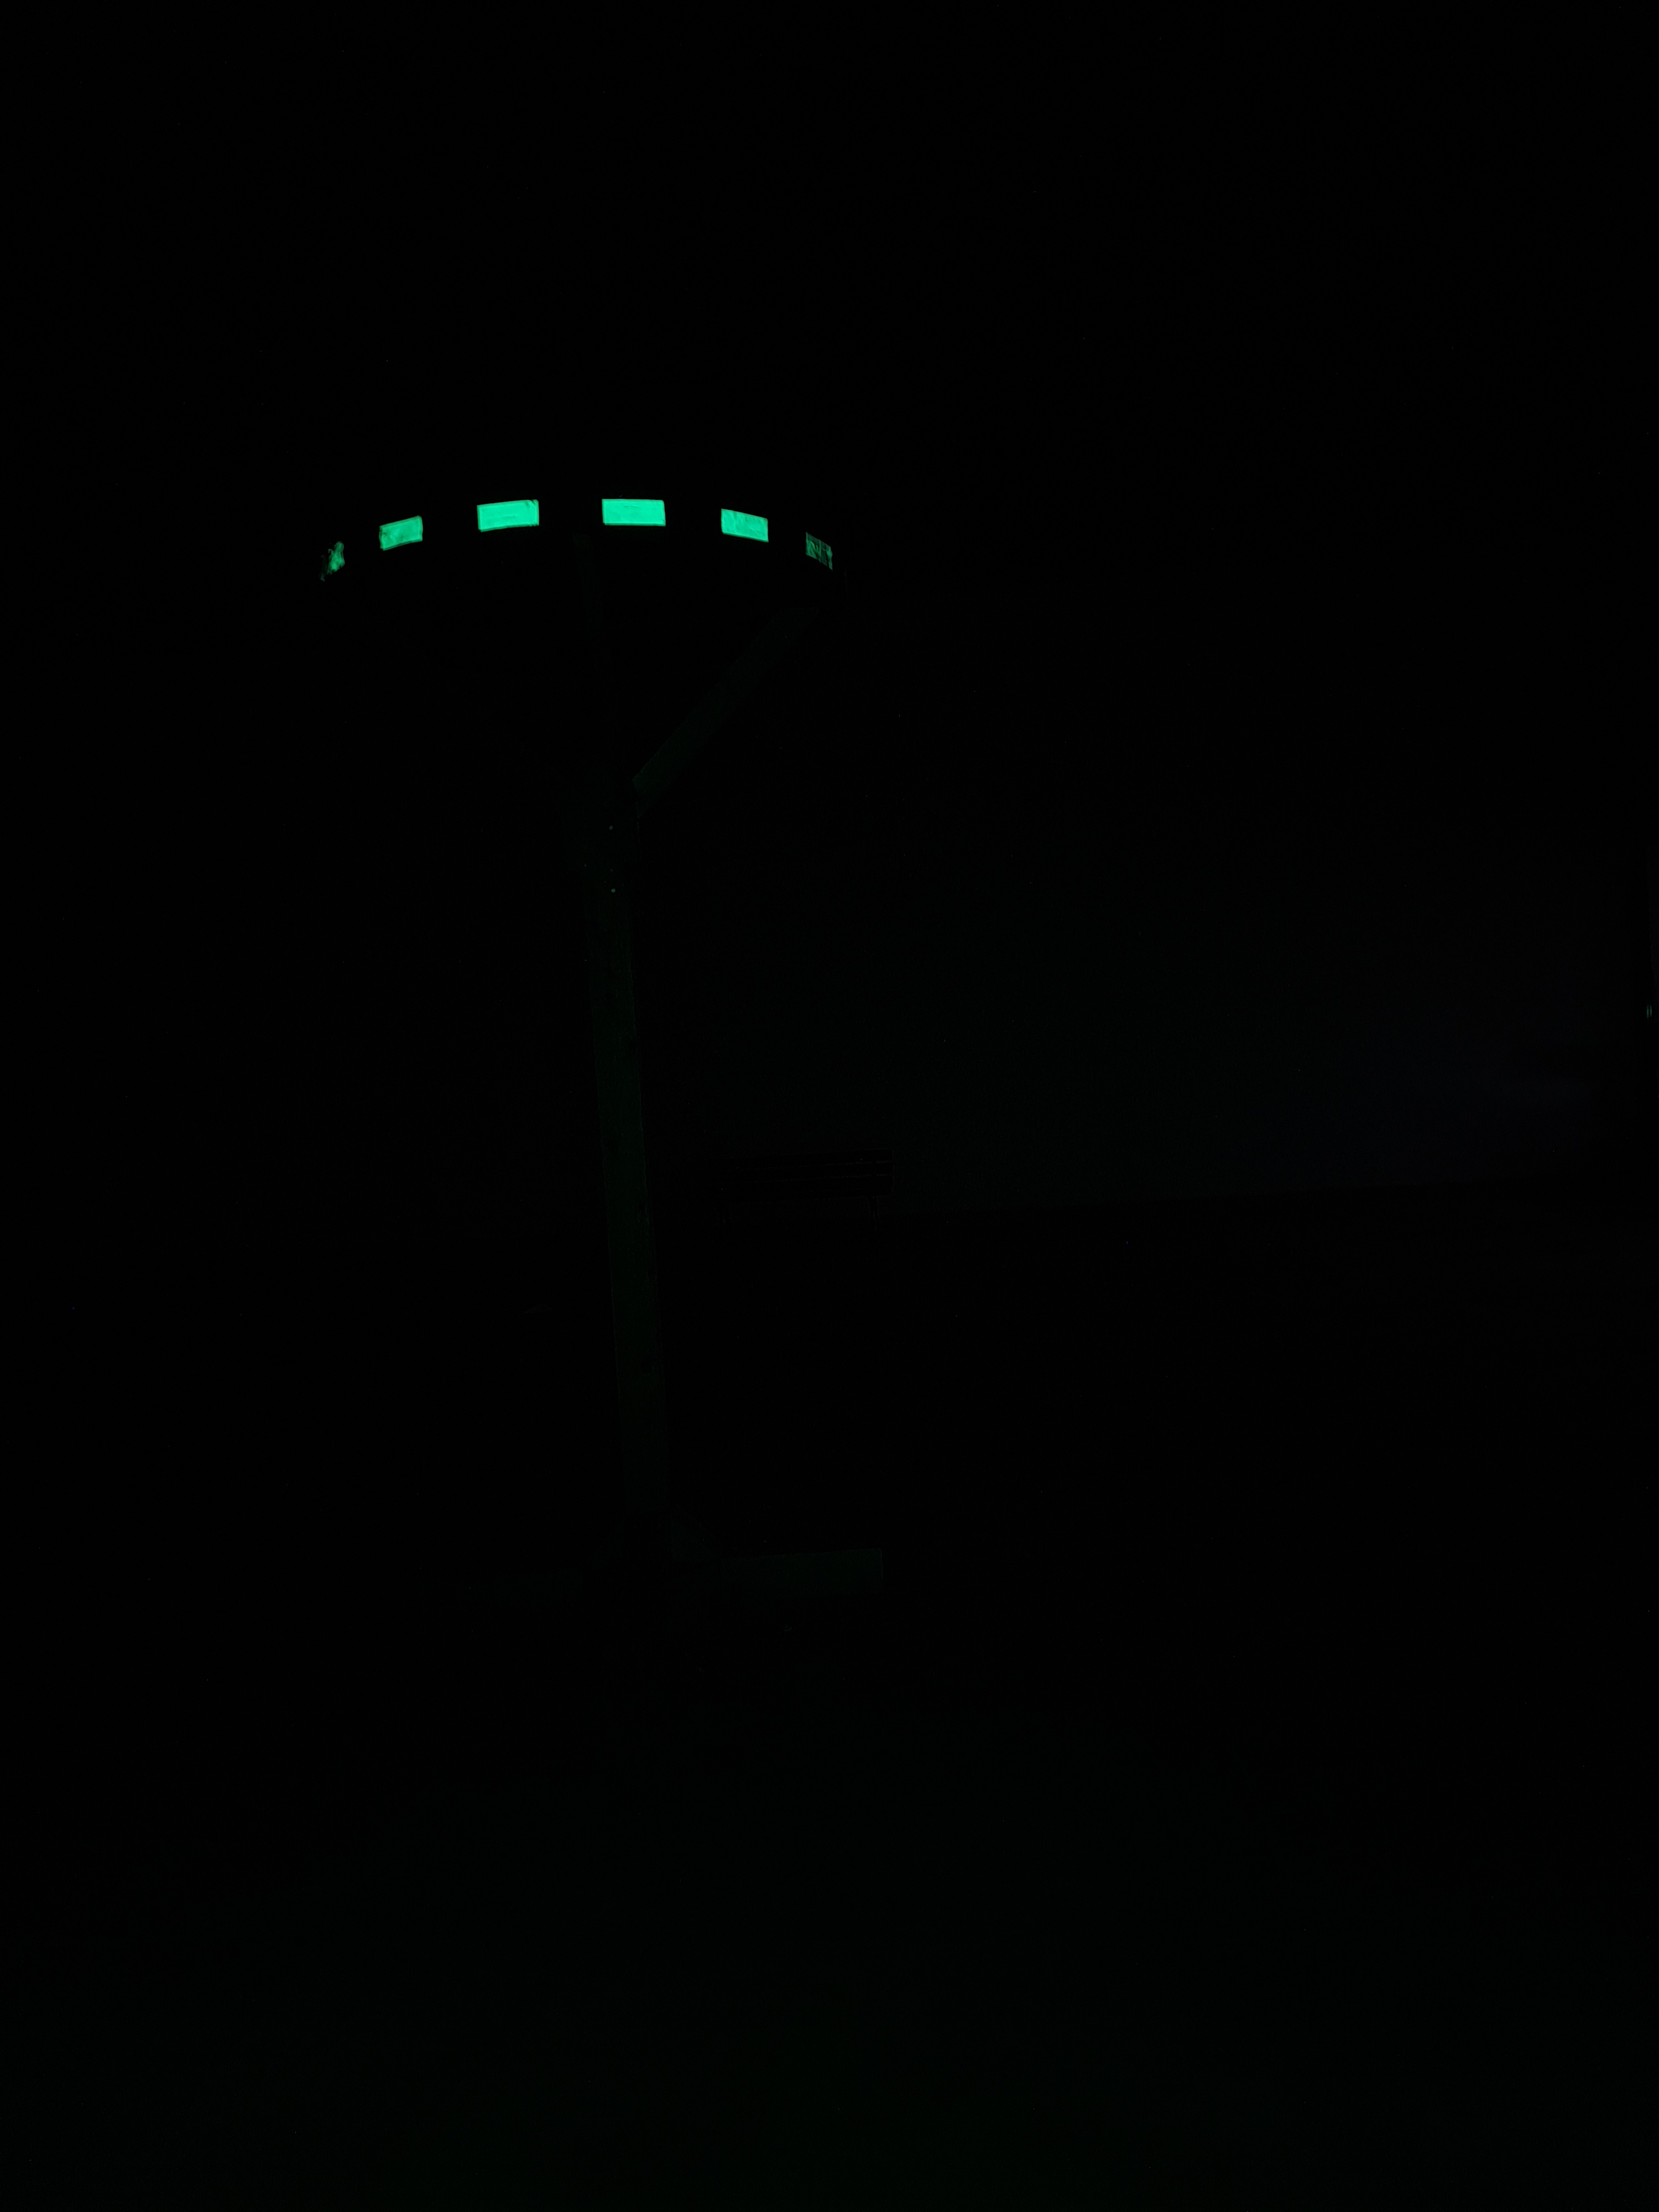hoop: (328, 486, 840, 608)
